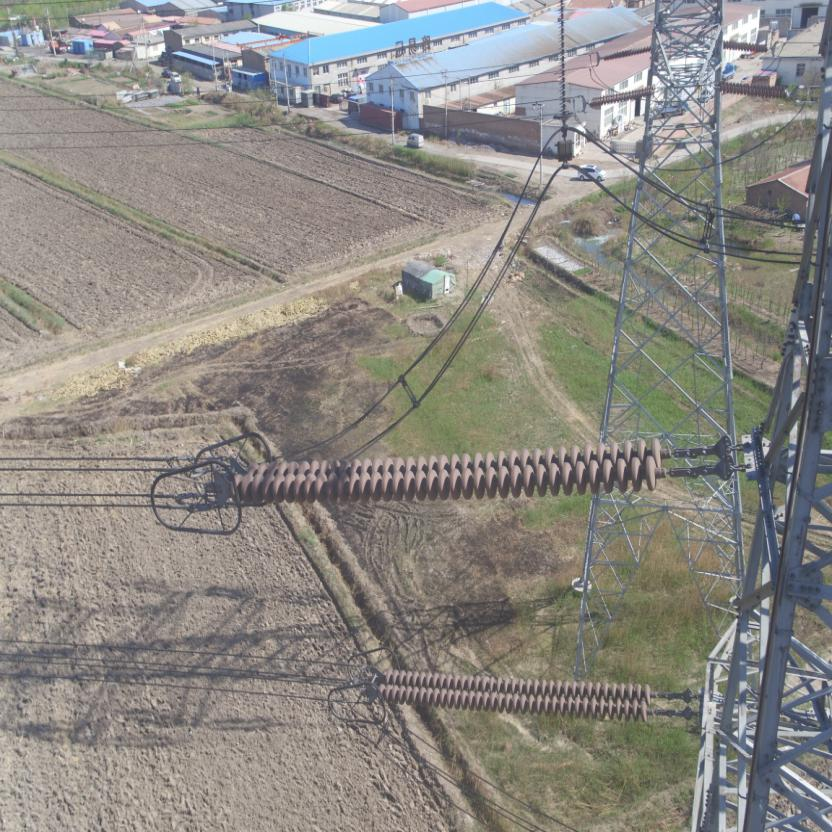insulator: (227, 434, 693, 505), (374, 661, 670, 722)
